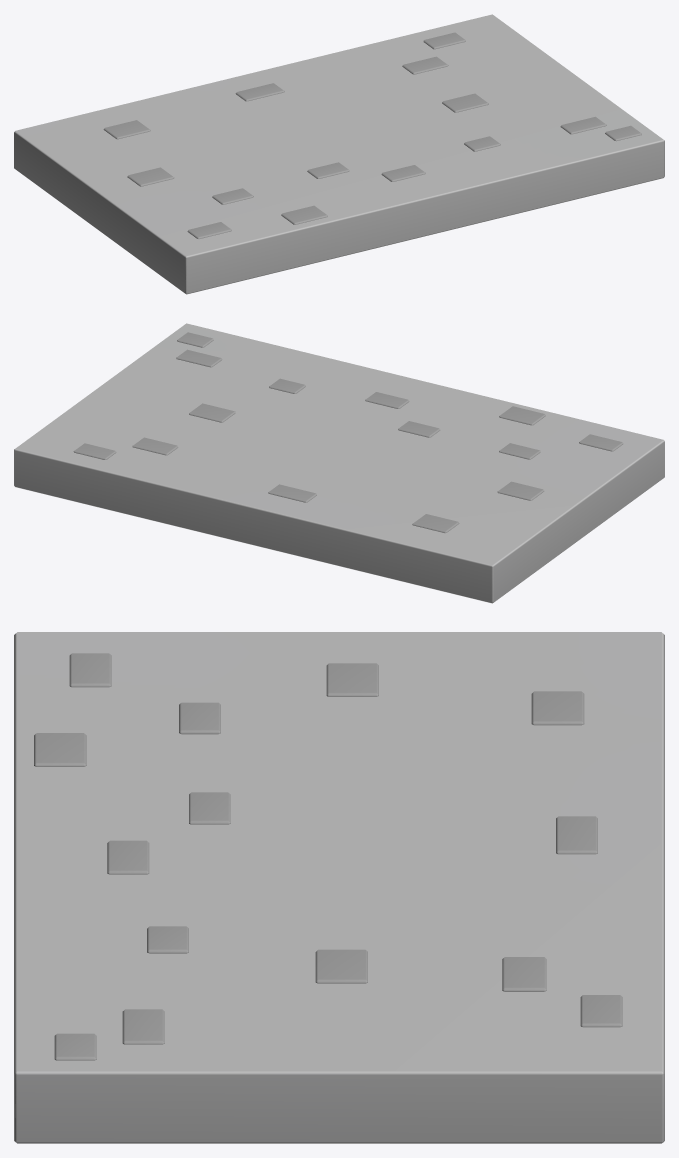
The model's file is Town_6_Base_1.glb.
3 renders of one model, top to bottom at view 1: azimuth 30°, elevation 25°; view 2: azimuth 150°, elevation 25°; view 3: azimuth 270°, elevation 25°, orthographic. The views are drawn at different scales.
Visible parts, largest first — view 1: Town_6_Base_1; view 2: Town_6_Base_1; view 3: Town_6_Base_1.
Part boxes in pixels (box(x1,y1,x2,y2)): Town_6_Base_1: box(14, 14, 664, 294); Town_6_Base_1: box(14, 323, 664, 603); Town_6_Base_1: box(14, 632, 664, 1143).
Bounding box in the file's own units: 14.87 × 1.2 × 9.27.
Materials: 1 (1 with a texture image).
